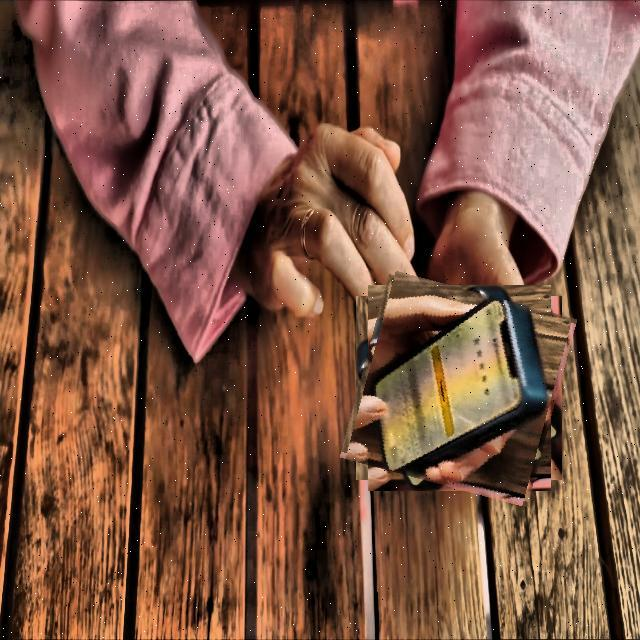Phone: (351, 280, 567, 497)
